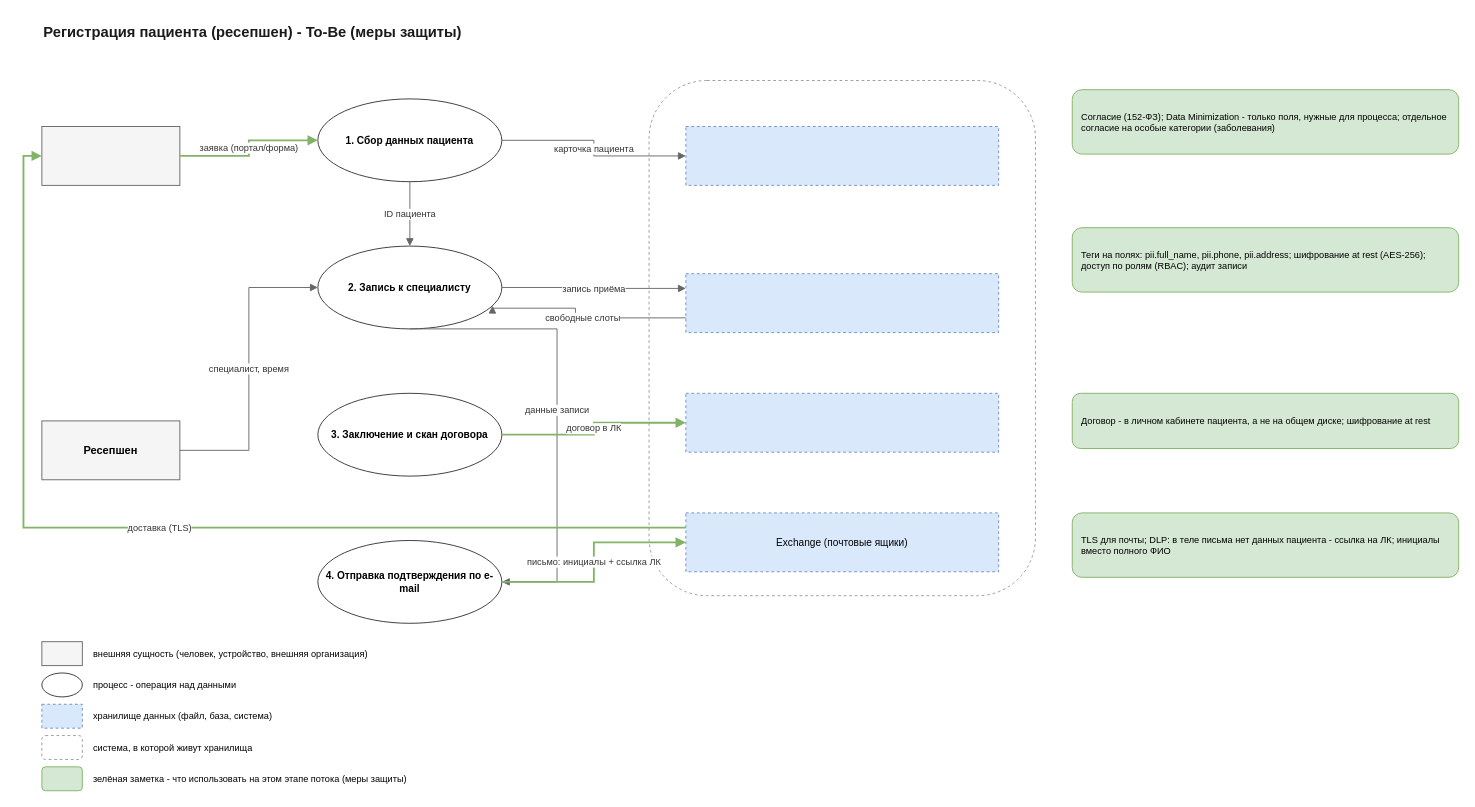
This 1475x807 diagram has some shape labels left out. Here are the shapes that lost their labels. From the top down, the box of each, then its label:
(41, 126, 180, 185): Пациент
(685, 126, 999, 185): Patients (список пациентов, Excel)
(685, 273, 999, 333): Journal-Doctor-FIO (журнал записей, Excel)
(648, 80, 1035, 596): FileServer - общий диск
(685, 392, 999, 452): Договор (скан, PDF)
